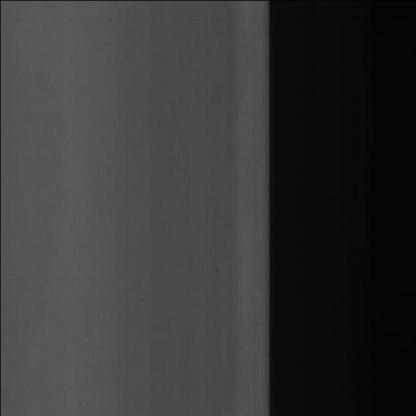inclusion: (212, 262, 221, 278)
